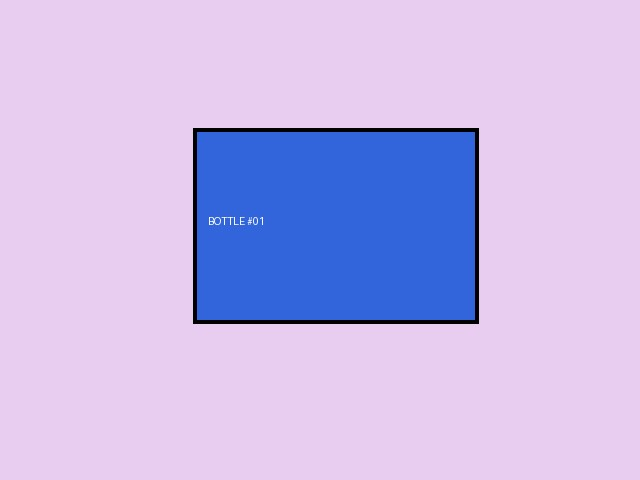bottle: (193, 128, 478, 323)
